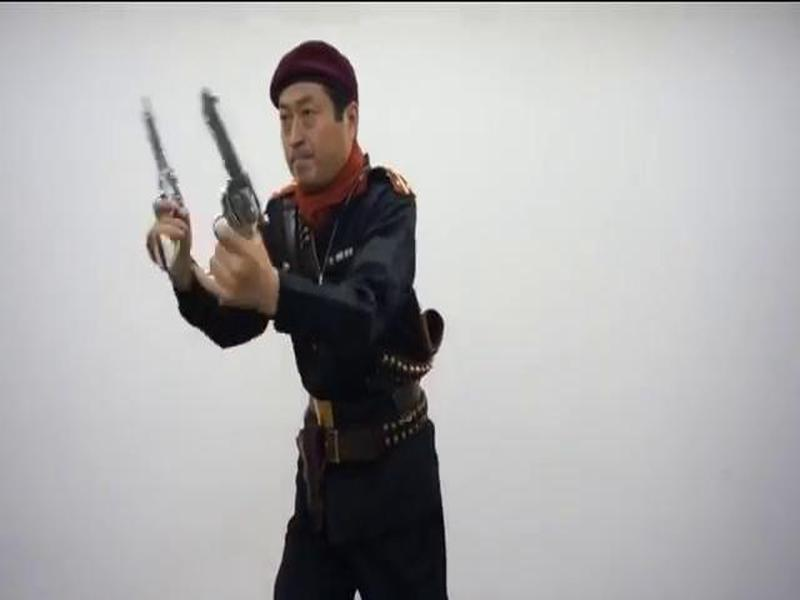Revolver: (117, 96, 195, 270), (196, 84, 272, 248)
